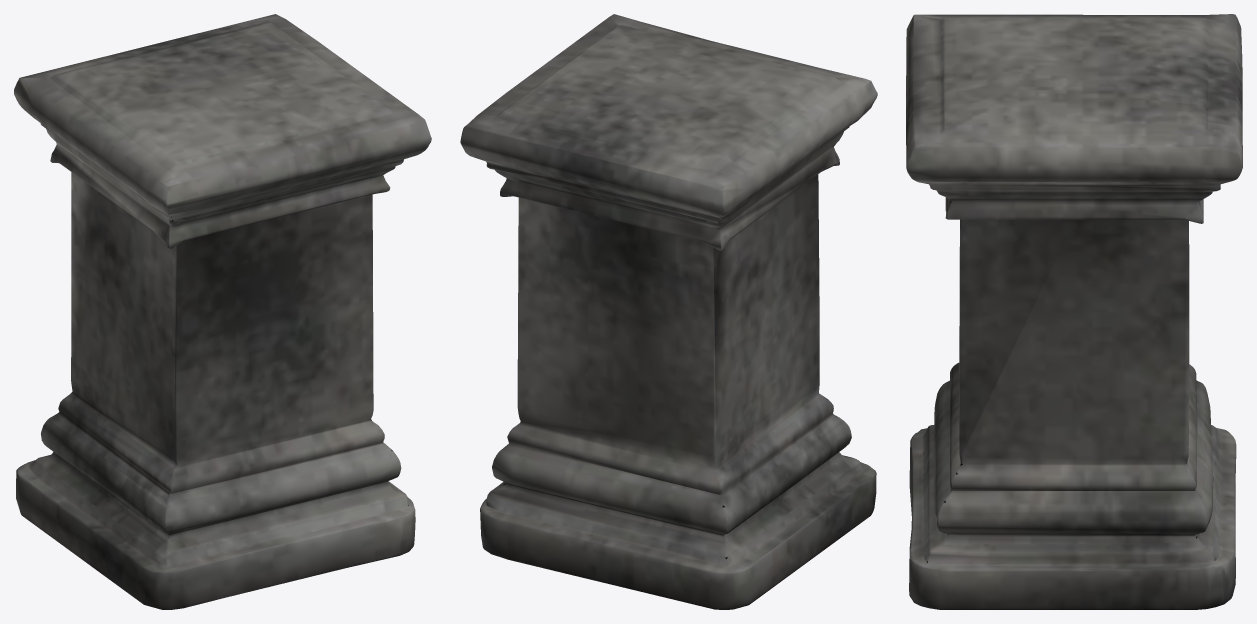
The model's file is old-granite-pedestal-v001.glb.
3 renders of one model, left to right at view 1: azimuth 30°, elevation 25°; view 2: azimuth 150°, elevation 25°; view 3: azimuth 270°, elevation 25°, orthographic. The views are drawn at different scales.
Parts seen in each view (by area): view 1: old-granite-pedestal; view 2: old-granite-pedestal; view 3: old-granite-pedestal.
Part boxes in pixels (x1=…): old-granite-pedestal: x1=14, y1=14, x2=431, y2=609; old-granite-pedestal: x1=460, y1=14, x2=877, y2=609; old-granite-pedestal: x1=906, y1=14, x2=1242, y2=609.
Size of the model in its own units: 0.5333 by 0.809 by 0.5164.
1 material, 1 textured.
